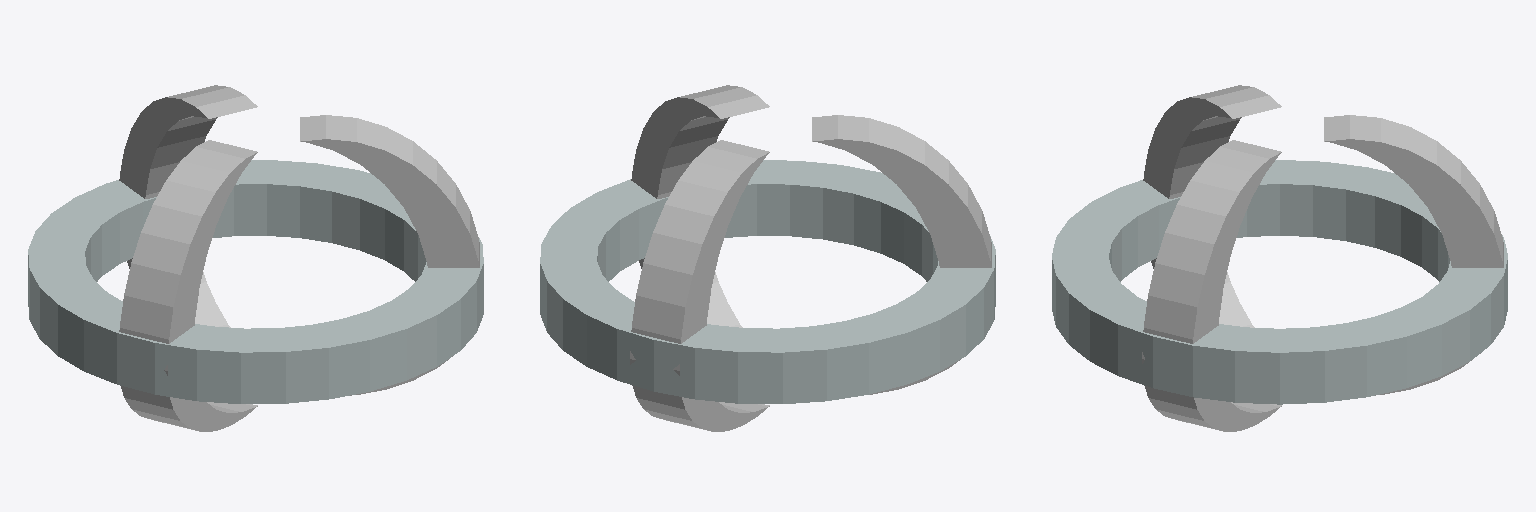
Rendered from Triton.obj.
The picture shows the model from 3 angles: view 1: azimuth 30°, elevation 25°; view 2: azimuth 150°, elevation 25°; view 3: azimuth 270°, elevation 25°; orthographic projection.
Parts seen in each view (by area): view 1: Cylinder, Cylinder.002, Cylinder.003_Cylinder.002, Cylinder.001_Cylinder.002; view 2: Cylinder, Cylinder.001_Cylinder.002, Cylinder.002, Cylinder.003_Cylinder.002; view 3: Cylinder, Cylinder.003_Cylinder.002, Cylinder.001_Cylinder.002, Cylinder.002.
Part boxes in pixels (bbox=[...]): Cylinder: bbox=[28, 160, 483, 403]; Cylinder.002: bbox=[119, 140, 257, 431]; Cylinder.003_Cylinder.002: bbox=[300, 115, 479, 395]; Cylinder.001_Cylinder.002: bbox=[119, 85, 257, 327]; Cylinder: bbox=[540, 160, 995, 403]; Cylinder.001_Cylinder.002: bbox=[630, 140, 769, 431]; Cylinder.002: bbox=[812, 115, 991, 394]; Cylinder.003_Cylinder.002: bbox=[631, 85, 769, 327]; Cylinder: bbox=[1052, 160, 1507, 404]; Cylinder.003_Cylinder.002: bbox=[1142, 140, 1281, 431]; Cylinder.001_Cylinder.002: bbox=[1324, 115, 1503, 395]; Cylinder.002: bbox=[1143, 85, 1281, 327].
Bounding box in the file's own units: 16 × 9.97 × 16.